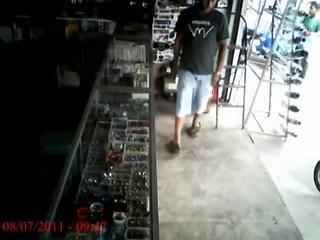Normal: (301, 1, 320, 34)
shoplifting: (166, 0, 230, 154)
